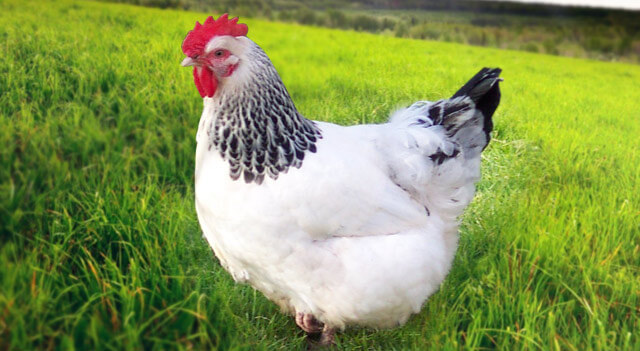chicken: (180, 17, 504, 329)
